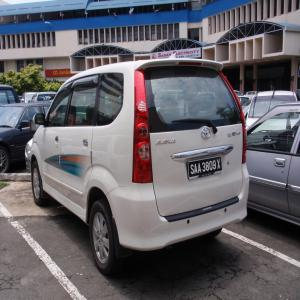Vehicle-registration-plate: (189, 156, 223, 181)
